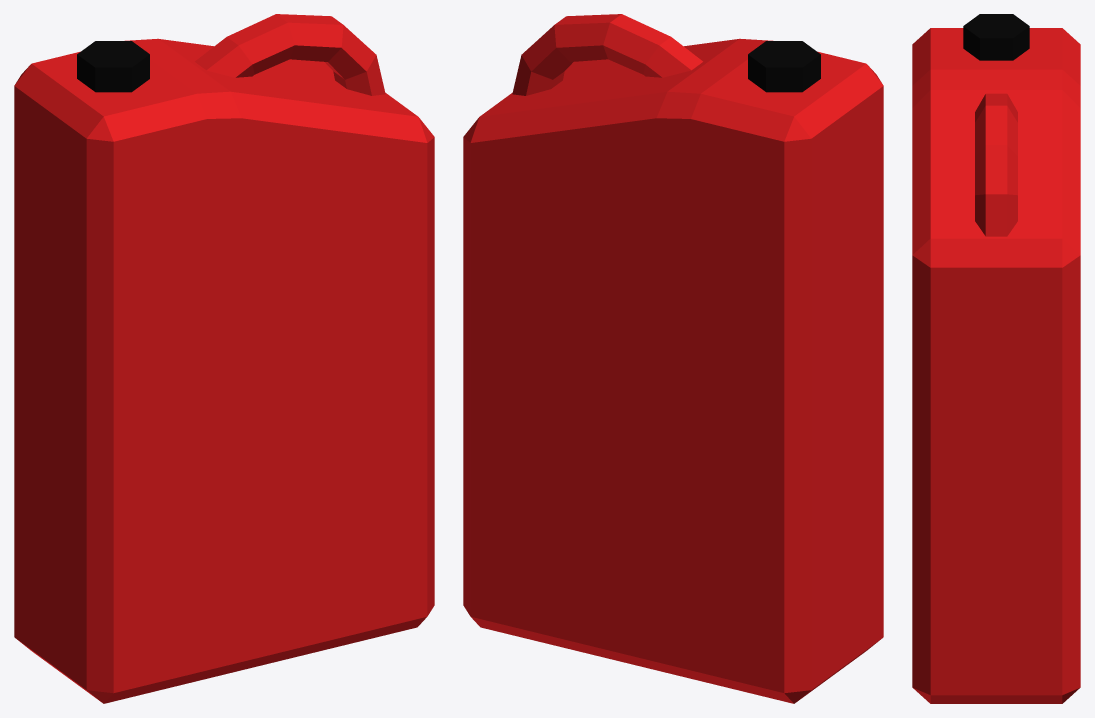
File: Nitro.fbx
The picture shows the model from 3 angles, left to right: view 1: azimuth 30°, elevation 25°; view 2: azimuth 150°, elevation 25°; view 3: azimuth 270°, elevation 25°; orthographic projection. The views are drawn at different scales.
Parts seen in each view (by area): view 1: Cube; view 2: Cube; view 3: Cube.
Part boxes in pixels (box(x1,y1,x2,y2)): Cube: box(14, 14, 434, 703); Cube: box(463, 14, 883, 703); Cube: box(912, 14, 1080, 703).
Size of the model in its own units: 146 by 245 by 67.01.
